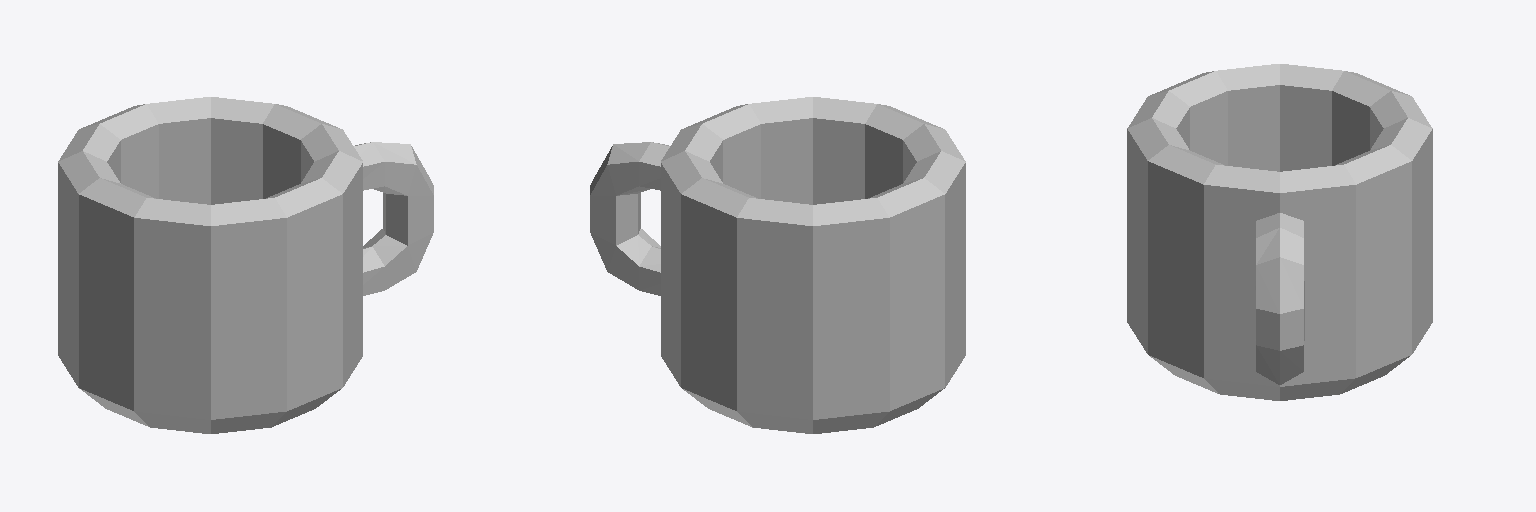
File: mug_B.obj
3 views of the same model, side by side, from view 1: azimuth 30°, elevation 25°; view 2: azimuth 150°, elevation 25°; view 3: azimuth 270°, elevation 25° (orthographic).
Parts seen in each view (by area): view 1: mug_B_Cylinder.608; view 2: mug_B_Cylinder.608; view 3: mug_B_Cylinder.608.
Boxes of the visible parts, <box> form: mug_B_Cylinder.608: <box>58,97,433,433</box>; mug_B_Cylinder.608: <box>590,97,965,433</box>; mug_B_Cylinder.608: <box>1127,64,1432,400</box>.
Size of the model in its own units: 0.4932 by 0.3087 by 0.3675.